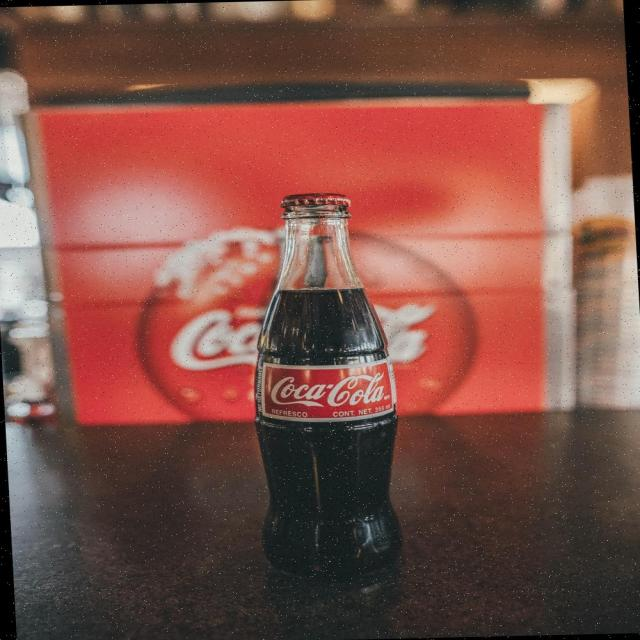coca-cola: (233, 188, 418, 597)
